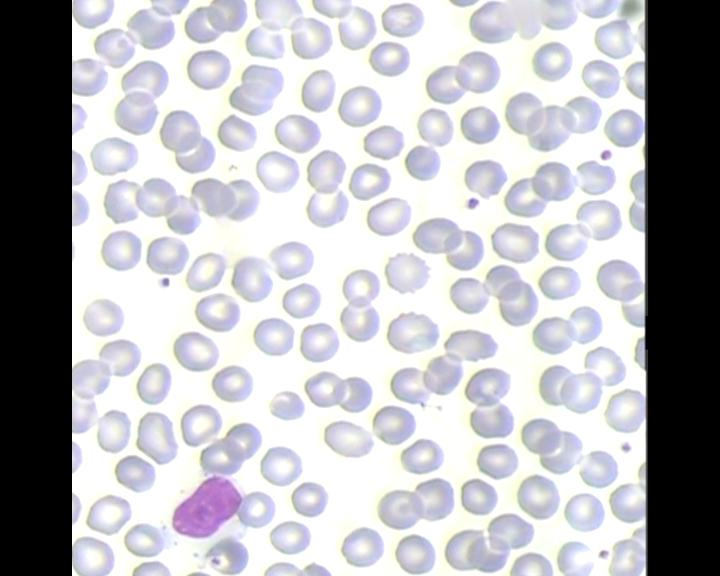mono: (159, 470, 252, 555)
